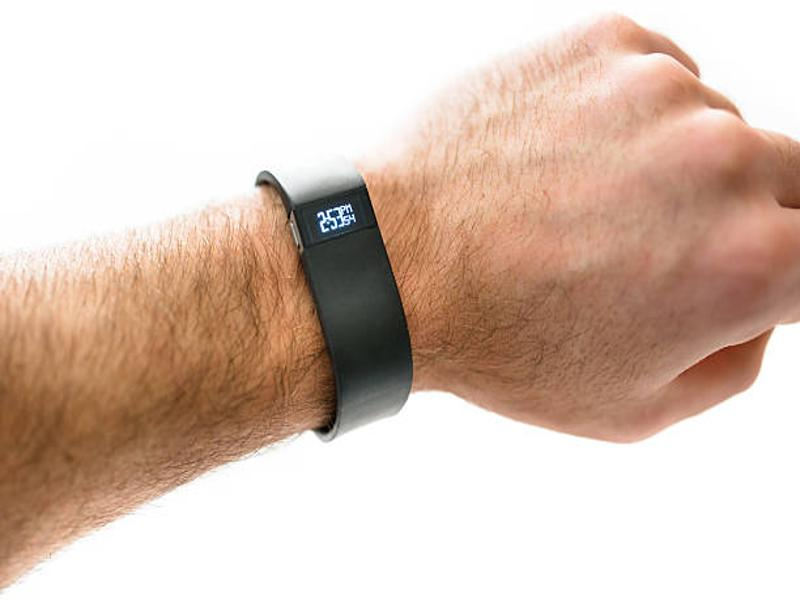watch: (255, 152, 414, 443)
